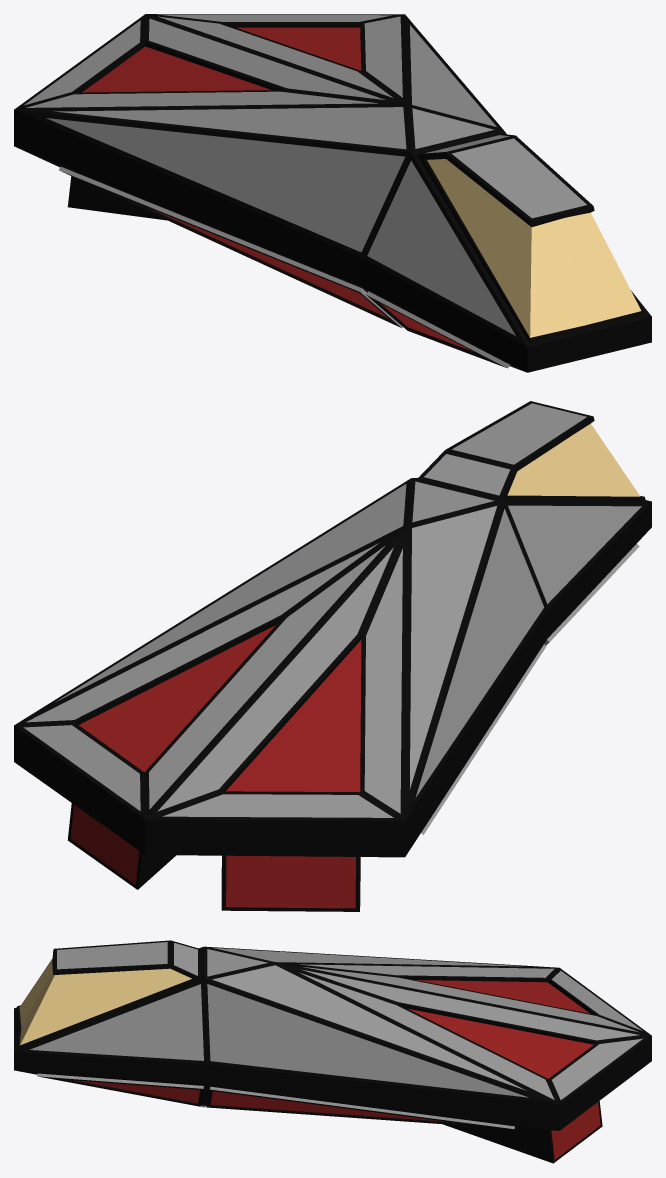
The model's file is Vehacle.FBX.
The picture shows the model from 3 angles, top to bottom: view 1: azimuth 30°, elevation 25°; view 2: azimuth 150°, elevation 25°; view 3: azimuth 270°, elevation 25°; orthographic projection. The views are drawn at different scales.
Visible parts, largest first — view 1: Box006; view 2: Box006; view 3: Box006.
Part boxes in pixels (x1,y1,x2,y2): Box006: (14,14,651,372); Box006: (14,401,651,911); Box006: (14,940,651,1163).
Bounding box in the file's own units: 39.37 × 21.42 × 77.51.
